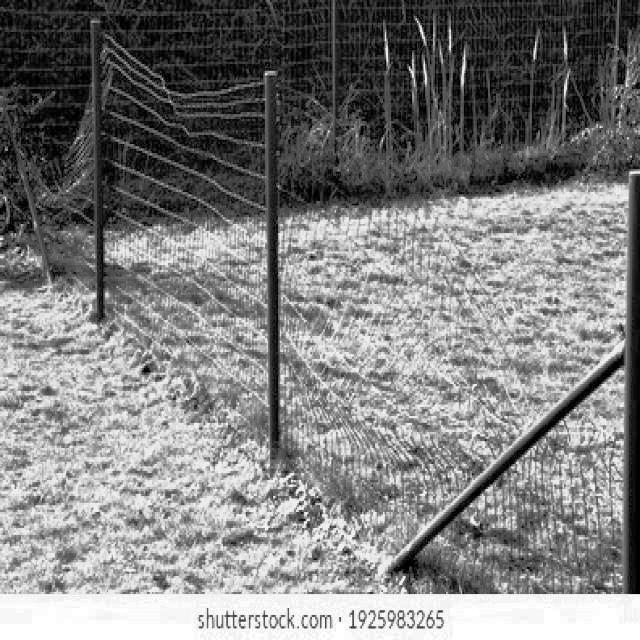anomaly-fence: (342, 72, 635, 596), (109, 20, 294, 120)
